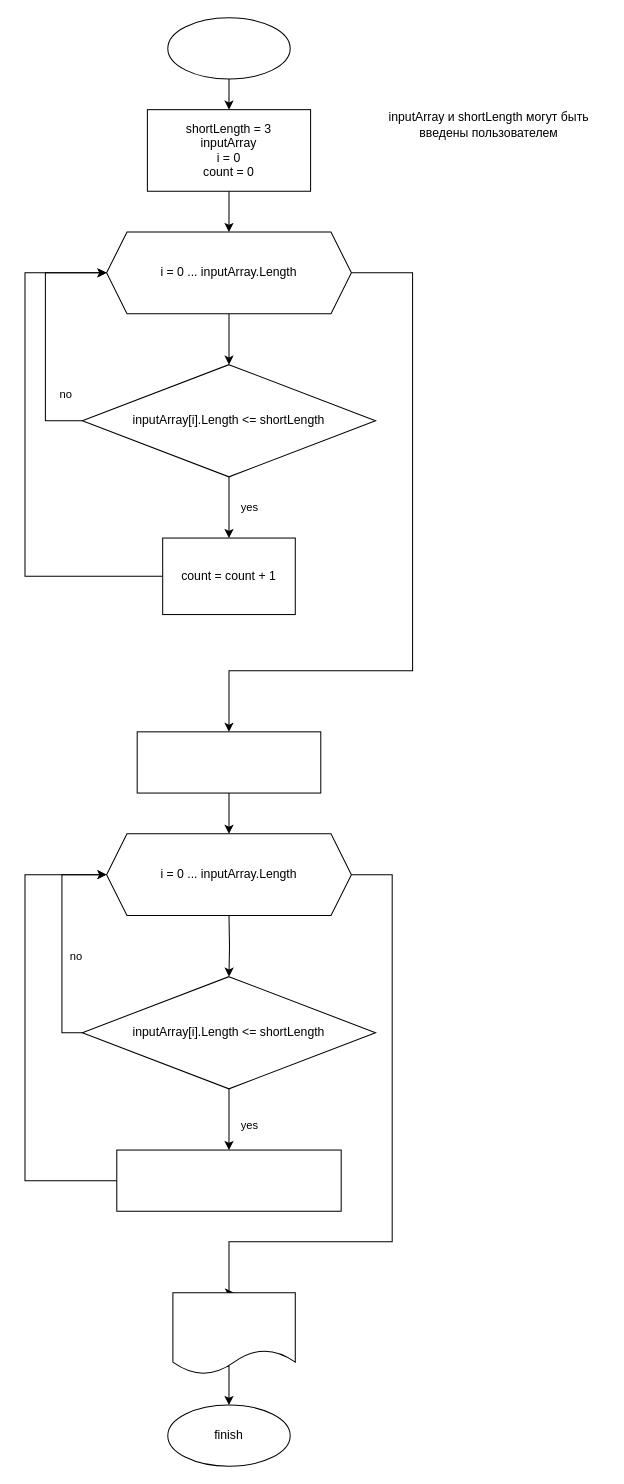
Image size: 624x1484. Some labels were removed from this diagram. The box of each missing label's shape, as (x1, y1, x2, y2) in pixels:
outputArray: (172, 1292, 295, 1374)
outputArray outputArray.Length = count j = 0: (136, 731, 321, 793)
outputArray[j] = inputArray[i] j = j + 1: (116, 1149, 341, 1211)
start: (167, 17, 290, 79)
